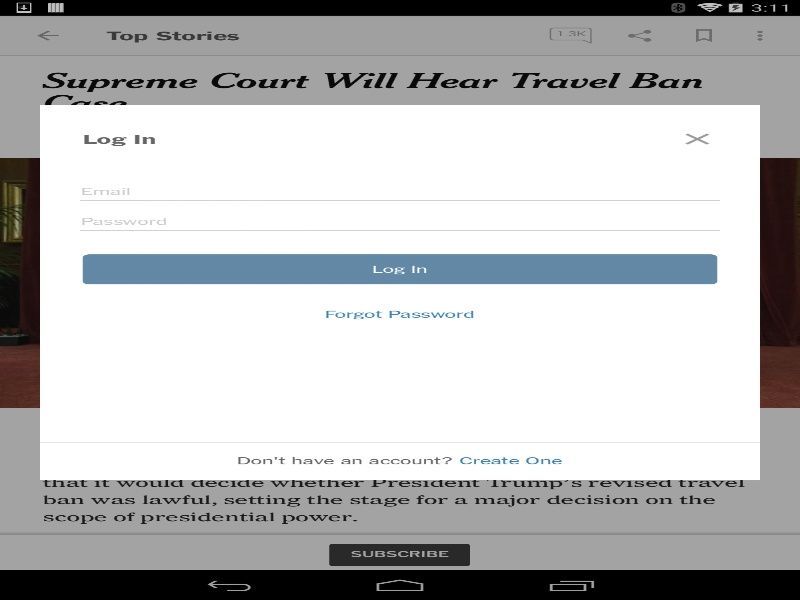Input: (80, 170, 720, 200), (80, 200, 720, 230)
